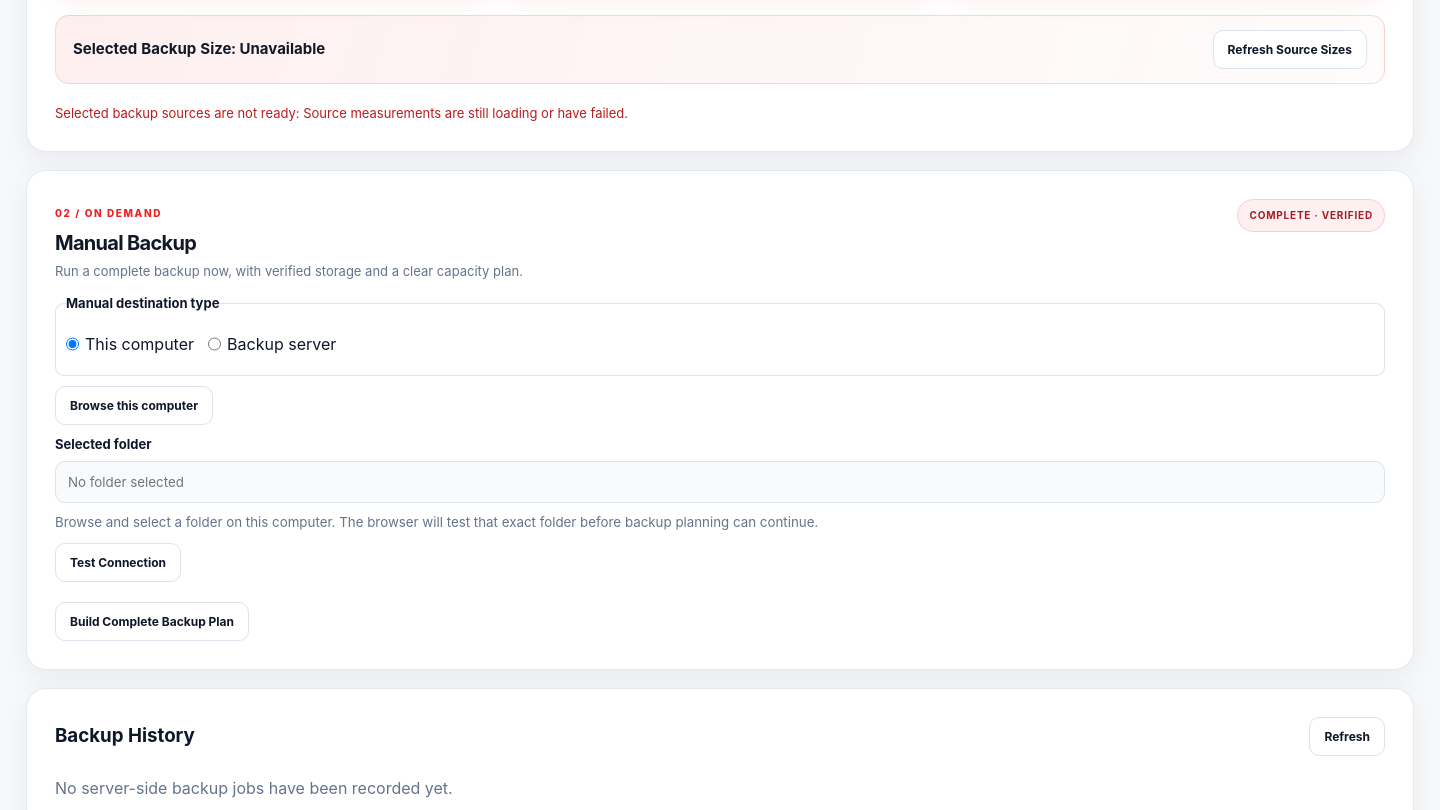
Test case: AdminBackupPage › changing a tested Mac folder invalidates its destination test and plan eligibility
(page scrolled)
Click the button "Browse this computer": (134, 406) [55, 386, 213, 425]
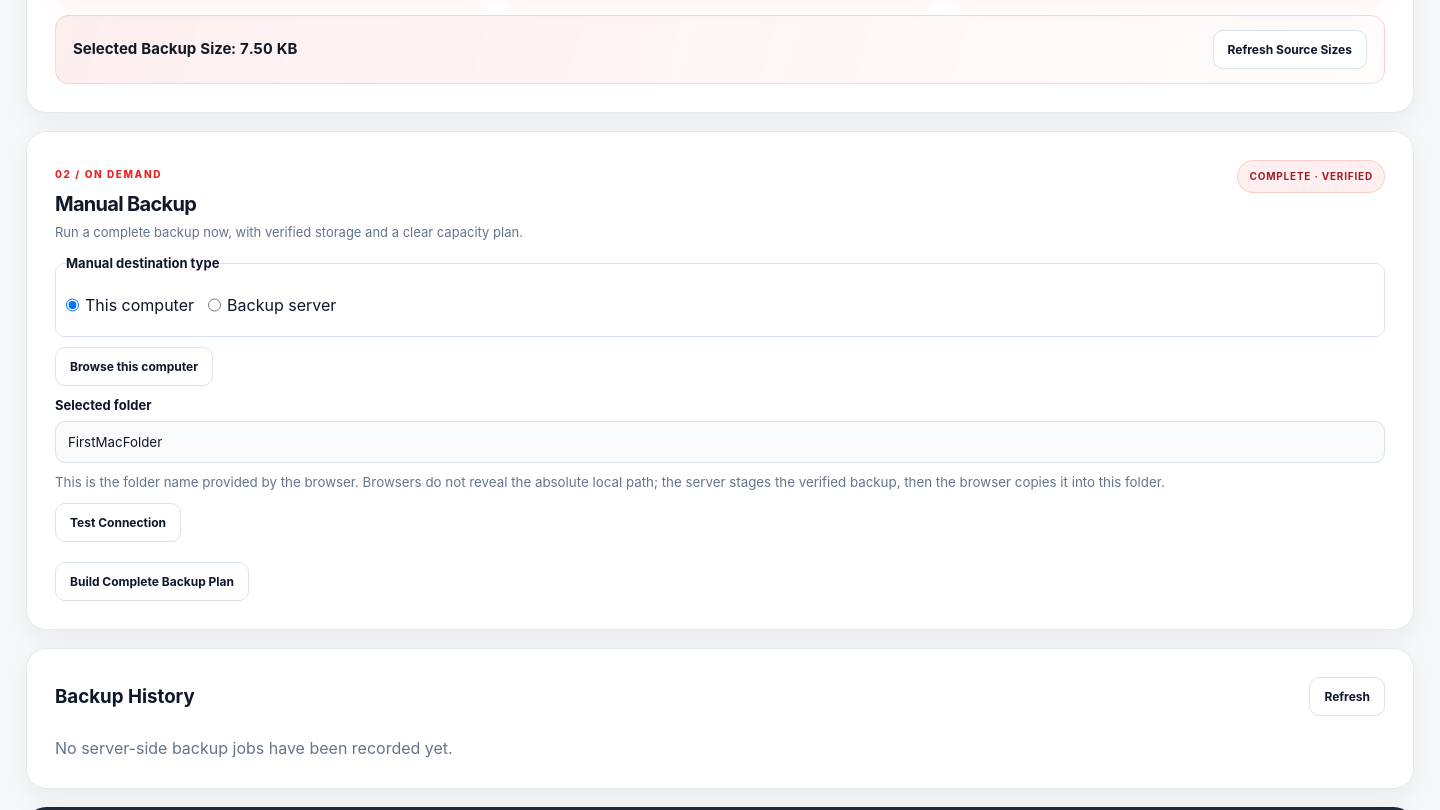
Expected: the field labelled "Selected folder" holds "FirstMacFolder", [55, 421, 1385, 463]
Click the button "Test Connection": (118, 523) [55, 503, 181, 542]
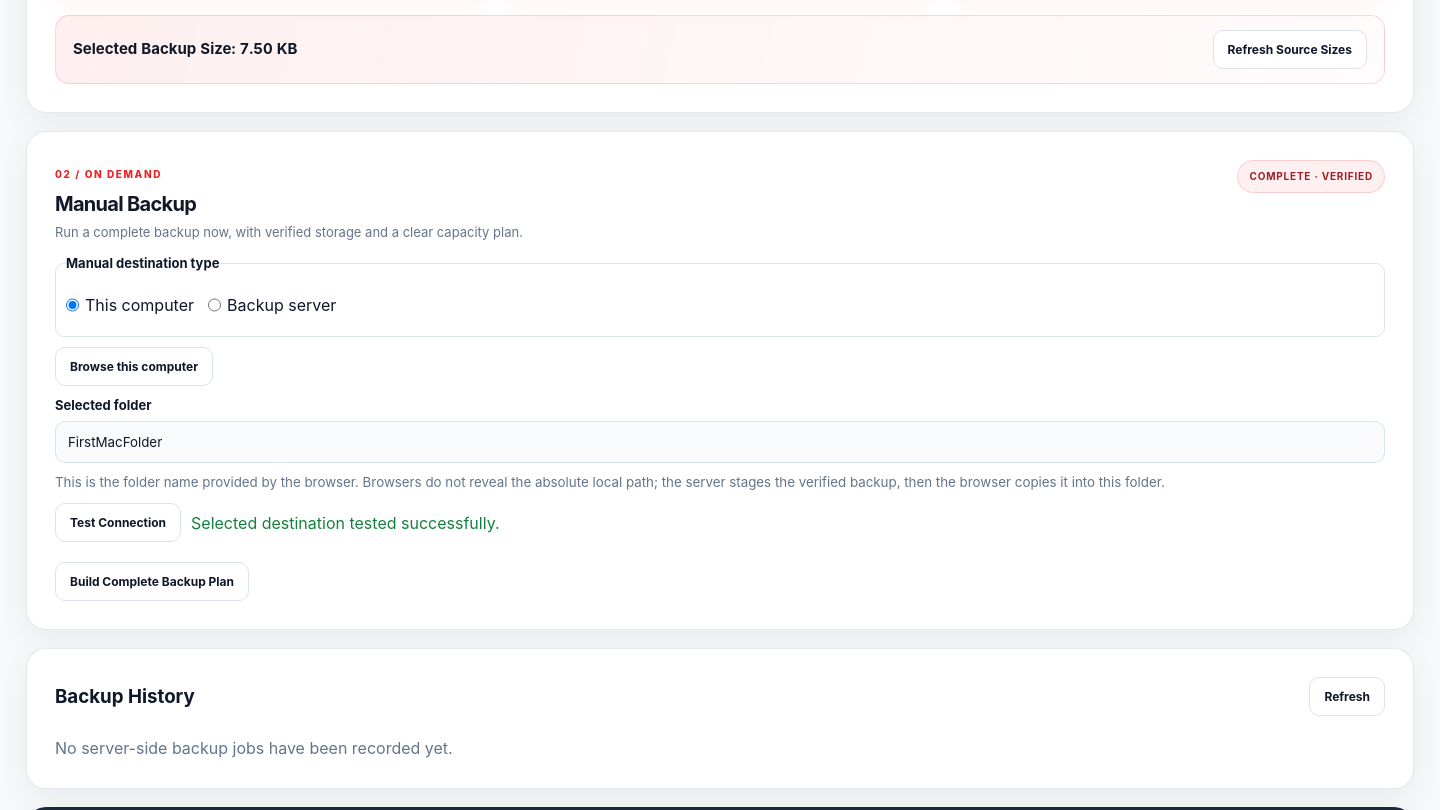
Expected: the button "Build Complete Backup Plan" is enabled, [55, 562, 249, 601]
Expected: the text "Selected destination tested successfully." is shown, [191, 511, 500, 535]
Click the button "Browse this computer": (134, 366) [55, 347, 213, 386]
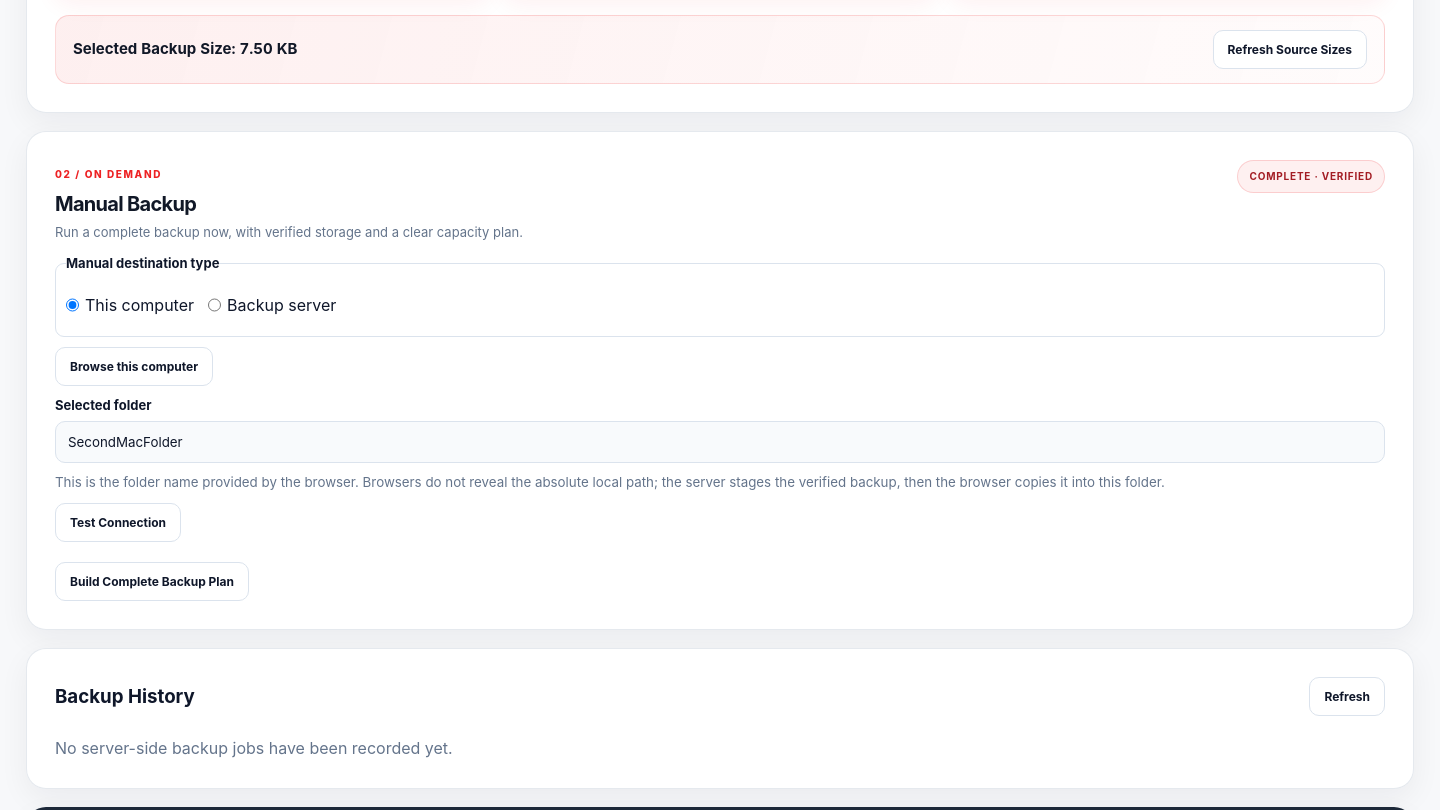
Expected: the button "Build Complete Backup Plan" is disabled, [55, 562, 249, 601]
Expected: the field labelled "Selected folder" holds "SecondMacFolder", [55, 421, 1385, 463]
